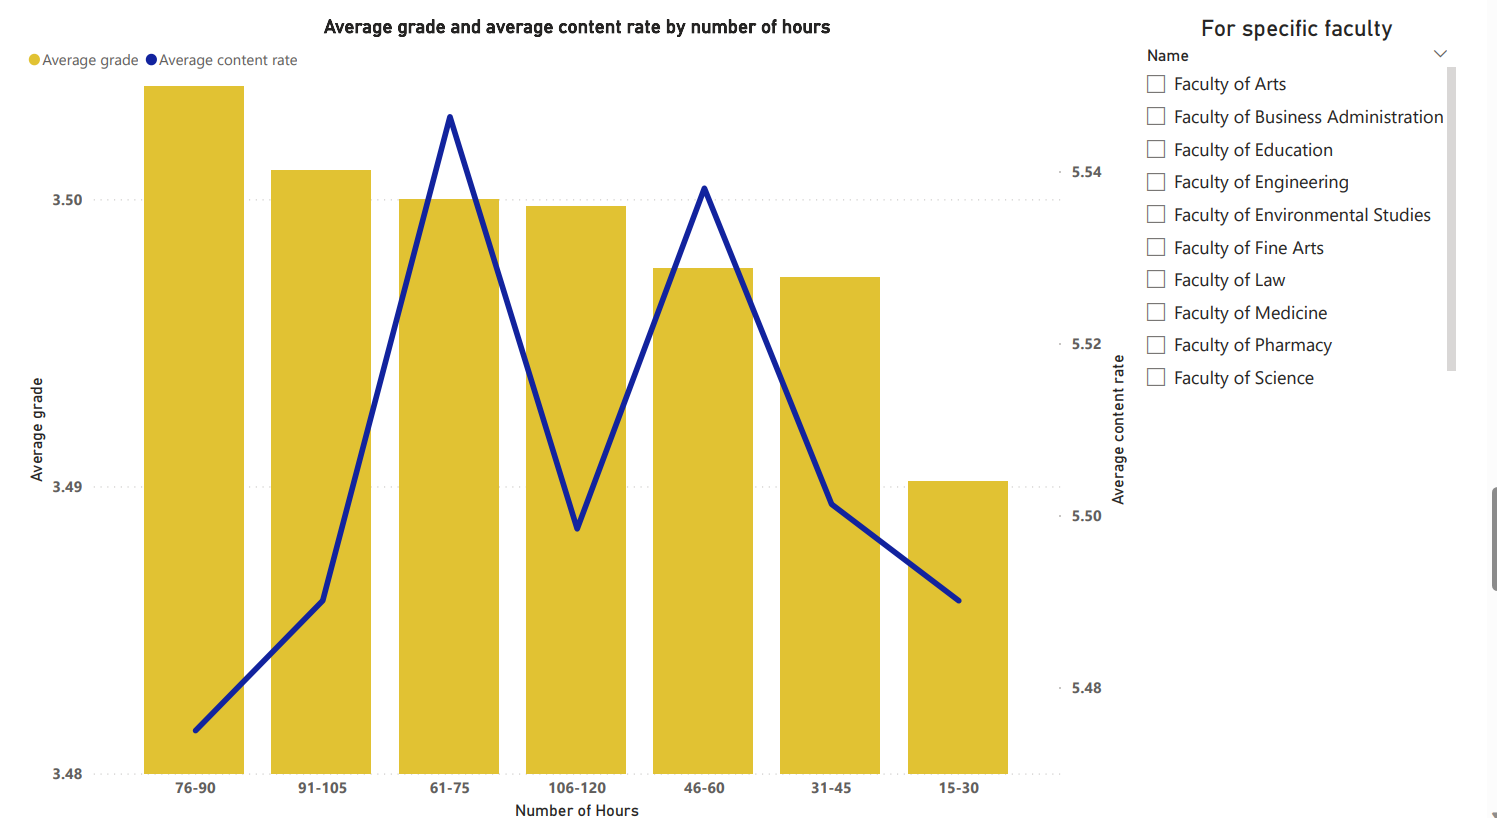

This screenshot's page, from the dashboard's own definition file:
{"tool":"powerbi","page":{"name":"grade content num of hours","canvas":[1280,720],"ordinal":5},"visuals":[{"type":"lineClusteredColumnComboChart","fields":{"Y2":["Measures.Average content rate"],"Y":["Measures.Average grade"],"Category":["Dim Course.Num Of Hours"]},"box":[196.4,0,958.6,720.9],"z":0}]}

Visuals, with their boxes in screenshot pixels (x1, y1, x2, y2), scaled from the page's 1280x720 canvas onto the 1497x818 screenshot:
lineClusteredColumnComboChart - Measures.Average content rate x Measures.Average grade: {"left": 230, "top": 0, "right": 1351, "bottom": 817}
